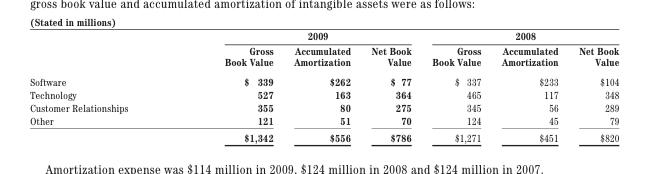table: (29, 29, 618, 143)
table column: (29, 29, 175, 143), (175, 29, 282, 143), (282, 29, 360, 143), (490, 29, 567, 143), (421, 29, 490, 143), (360, 29, 421, 143), (567, 29, 618, 143)
table column header: (29, 29, 618, 71)
table row: (29, 43, 618, 71), (29, 71, 618, 87), (29, 113, 618, 128), (29, 128, 618, 143), (29, 29, 618, 43), (29, 87, 618, 100), (29, 100, 618, 113)
table spanning cell: (175, 29, 421, 43), (421, 29, 618, 43)
